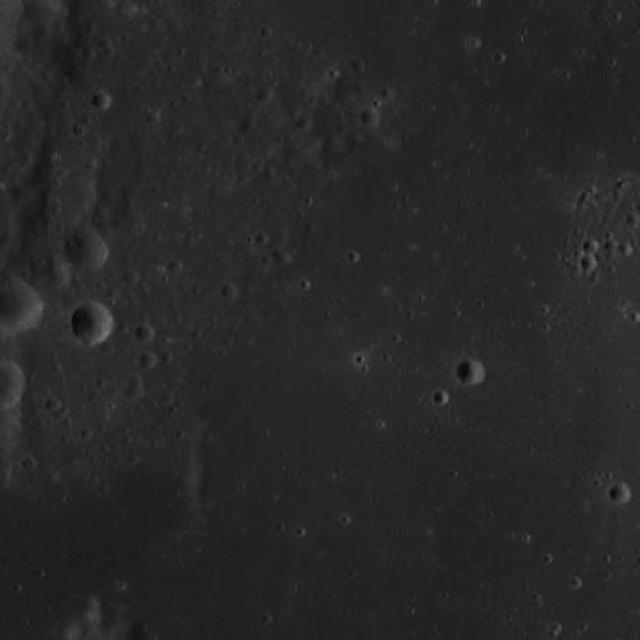crater: (0, 279, 40, 336), (64, 228, 108, 272), (69, 302, 114, 344), (108, 201, 144, 236), (456, 357, 484, 385), (46, 261, 72, 287), (608, 482, 630, 504), (358, 105, 380, 126), (89, 89, 109, 109), (134, 324, 152, 342), (138, 350, 156, 368), (44, 250, 62, 268), (579, 254, 596, 272), (124, 383, 142, 400), (238, 120, 255, 138), (273, 249, 290, 266), (220, 283, 237, 300), (256, 86, 273, 103), (433, 390, 449, 406), (28, 258, 44, 274), (296, 114, 312, 130)
